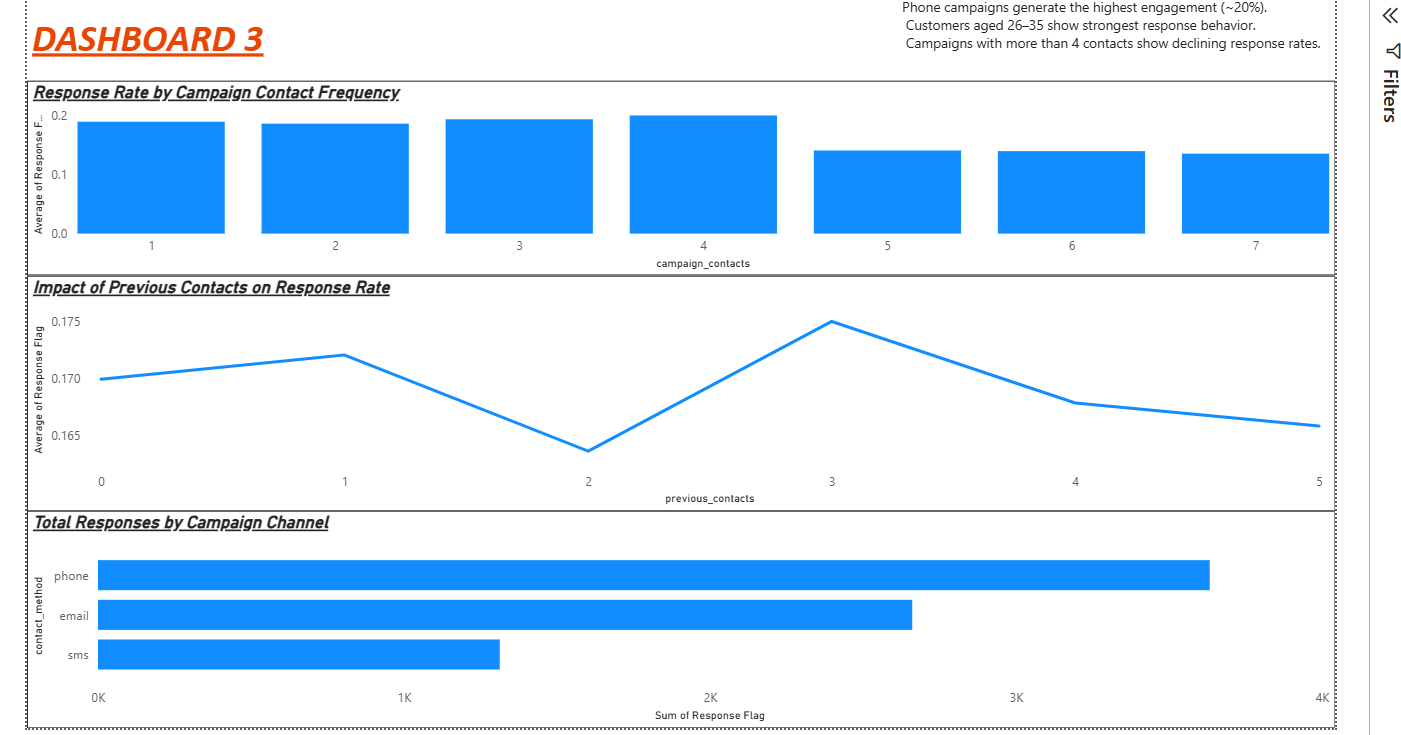

Layout of this report page (visuals, bound fields, positions):
{"tool":"powerbi","page":{"name":"Dashboard 3","canvas":[1280,720],"ordinal":2},"visuals":[{"type":"textbox","box":[0,0,283.7,75.8],"z":0},{"type":"columnChart","title":"Response Rate by Campaign Contact Frequency","fields":{"Y":["Avg(campaign_data.Response Flag)"],"Category":["campaign_data.campaign_contacts"]},"box":[0,86.4,1280.3,190.7],"z":1000},{"type":"lineChart","title":"Impact of Previous Contacts on Response Rate","fields":{"Category":["campaign_data.previous_contacts"],"Y":["Avg(campaign_data.Response Flag)"]},"box":[0,277.2,1280.3,230.5],"z":2000},{"type":"barChart","title":"Total Responses by Campaign Channel","fields":{"Category":["campaign_data.contact_method"],"Y":["Sum(campaign_data.Response Flag)"]},"box":[0,507.7,1280.3,212.7],"z":3000},{"type":"textbox","box":[851.1,0,429.2,75.8],"z":3001},{"type":"textbox","box":[371.7,0,12.2,61.1],"z":3002}]}

Visuals, with their boxes in screenshot pixels (x1, y1, x2, y2):
textbox: crop(22, 0, 307, 72)
"Response Rate by Campaign Contact Frequency" columnChart: crop(22, 83, 1308, 275)
"Impact of Previous Contacts on Response Rate" lineChart: crop(22, 275, 1308, 506)
"Total Responses by Campaign Channel" barChart: crop(22, 506, 1308, 720)
textbox: crop(877, 0, 1308, 72)
textbox: crop(395, 0, 407, 58)
